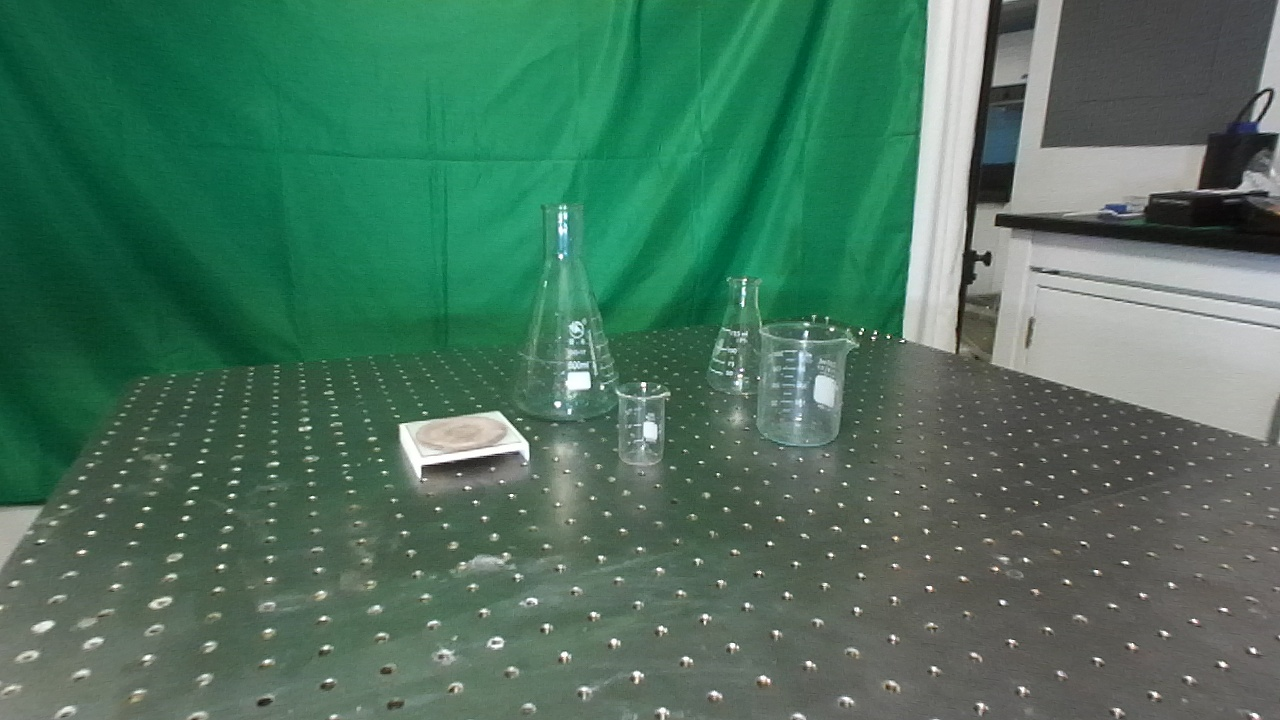glass: (507, 197, 628, 427), (756, 322, 858, 449), (704, 275, 772, 398), (614, 378, 671, 469)
plate: (394, 409, 533, 477)
